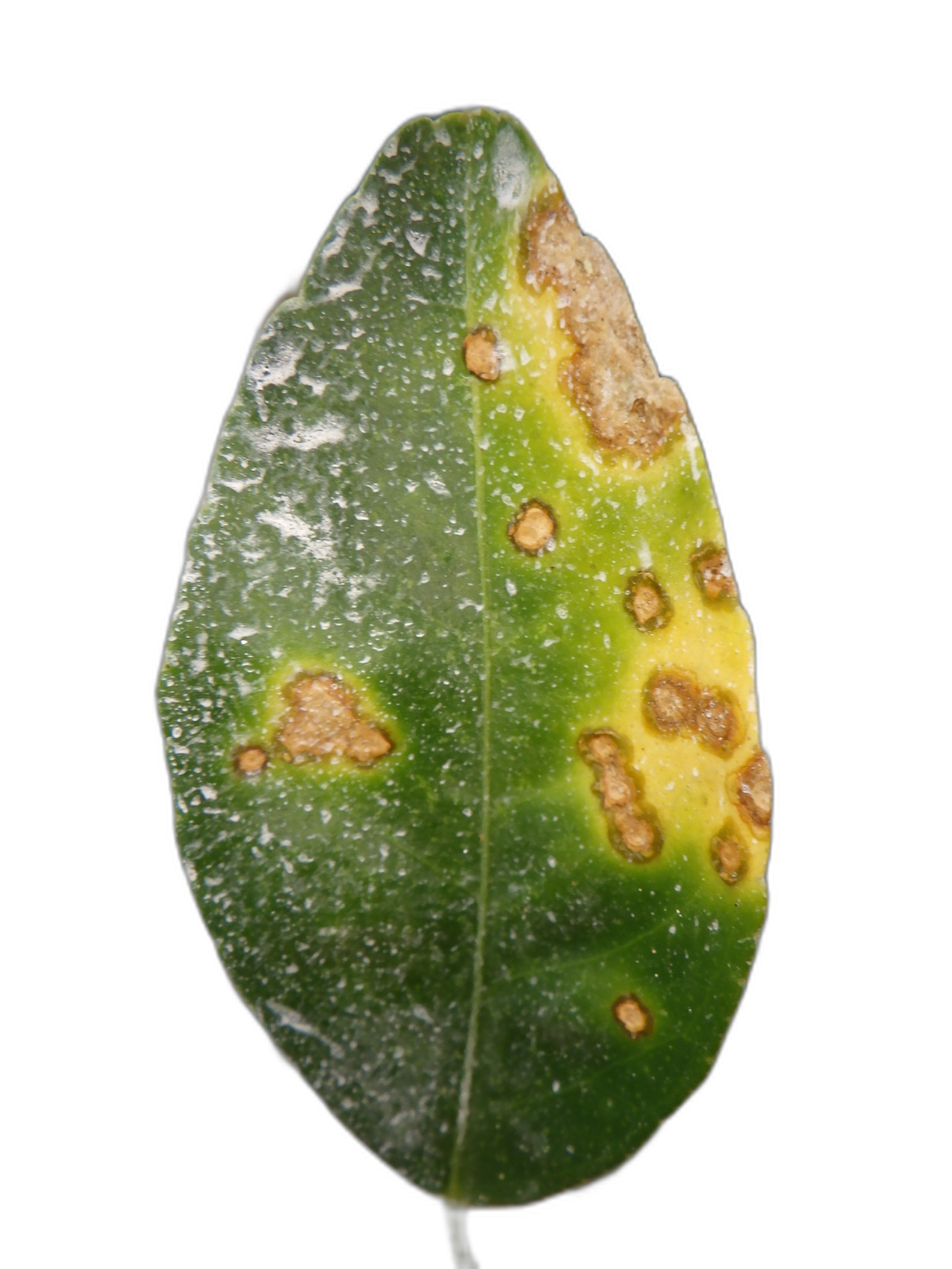Canker: (524, 194, 685, 458), (578, 727, 664, 863), (276, 672, 392, 765), (641, 665, 746, 759), (726, 748, 771, 840), (623, 564, 679, 634), (686, 540, 736, 615), (709, 823, 751, 890), (506, 499, 557, 554), (463, 327, 500, 381), (612, 993, 651, 1037), (235, 744, 268, 775)
